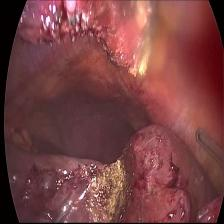Grasper: (194, 118, 224, 172)
